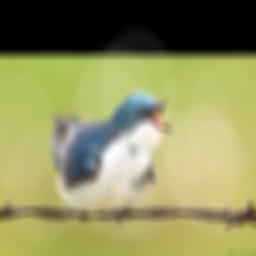Swallow: (49, 88, 178, 224)
